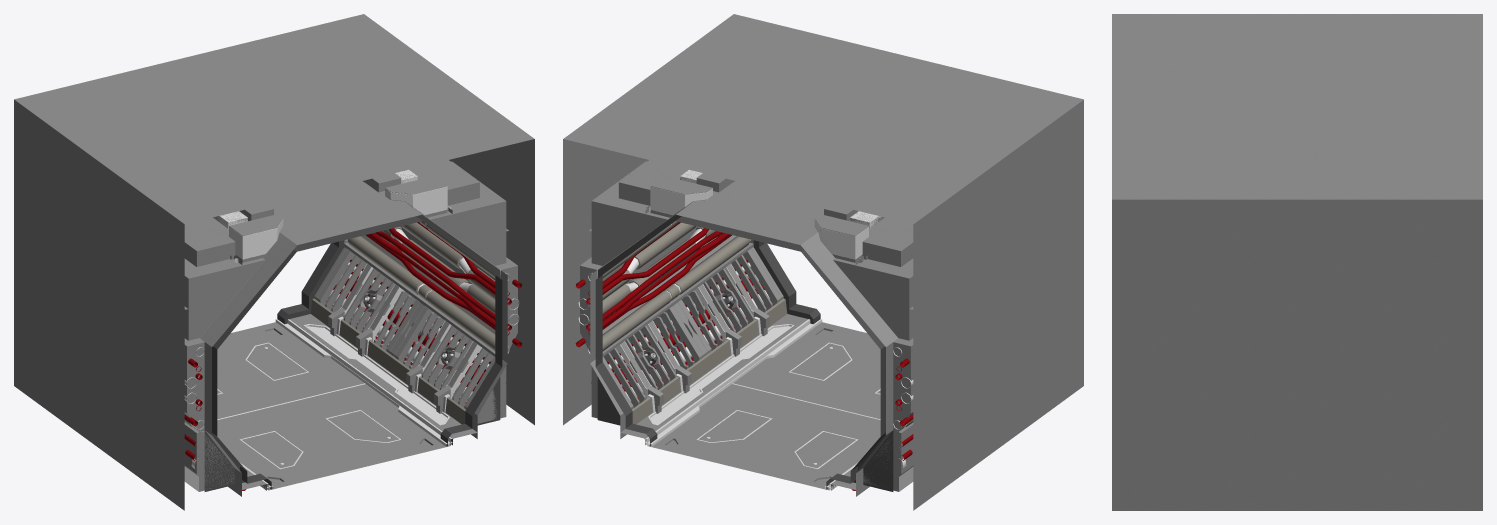
File: Ship_Room_Decon_001.fbx
3 views of the same model, side by side, from view 1: azimuth 30°, elevation 25°; view 2: azimuth 150°, elevation 25°; view 3: azimuth 270°, elevation 25° (orthographic). The views are drawn at different scales.
Parts seen in each view (by area): view 1: Ship_Room_Decon_Hallway_001, Ship_Room_Decon_Floor_001, Ship_Room_Decon_Pipes_001; view 2: Ship_Room_Decon_Hallway_001, Ship_Room_Decon_Floor_001, Ship_Room_Decon_Pipes_001; view 3: Ship_Room_Decon_Hallway_001.
Boxes of the visible parts, x1,y1,x2,y2 form: Ship_Room_Decon_Hallway_001: (14, 14, 534, 510); Ship_Room_Decon_Floor_001: (217, 314, 477, 490); Ship_Room_Decon_Pipes_001: (184, 221, 522, 490); Ship_Room_Decon_Hallway_001: (563, 14, 1083, 510); Ship_Room_Decon_Floor_001: (620, 314, 880, 490); Ship_Room_Decon_Pipes_001: (575, 221, 913, 490); Ship_Room_Decon_Hallway_001: (1112, 14, 1482, 510).
Bounding box in the file's own units: 563 × 451 × 475.
